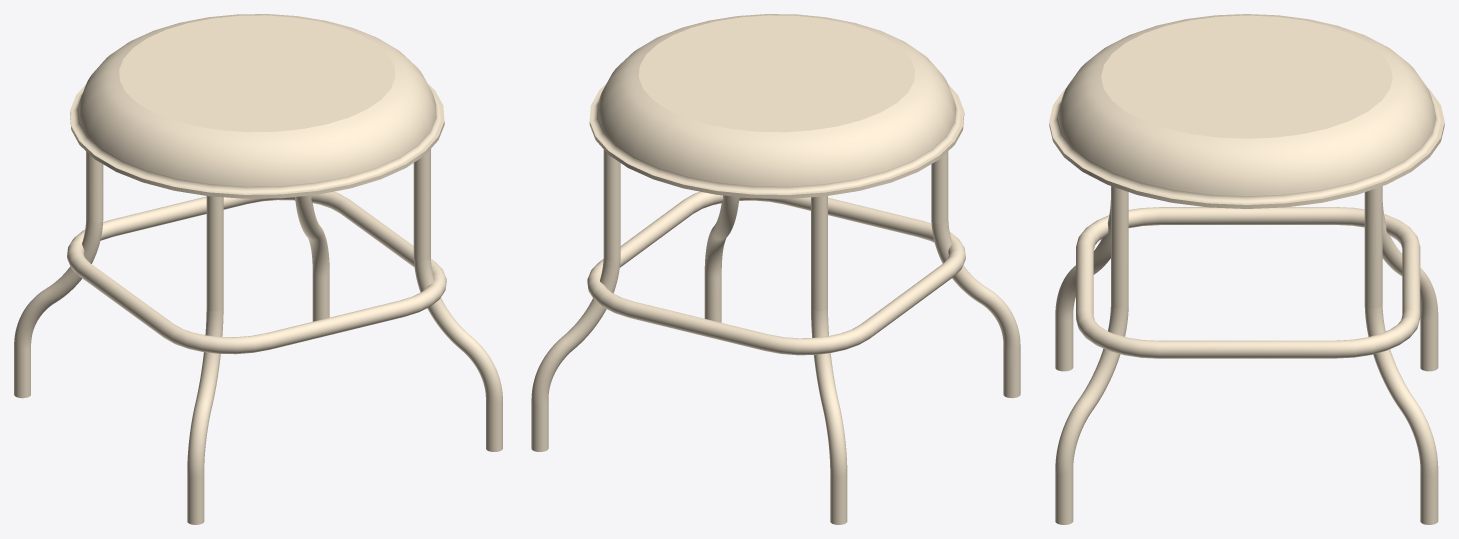
The model's file is RASKOG_Stool.obj.
The picture shows the model from 3 angles, left to right: view 1: azimuth 30°, elevation 25°; view 2: azimuth 150°, elevation 25°; view 3: azimuth 270°, elevation 25°; orthographic projection. The views are drawn at different scales.
Parts seen in each view (by area): view 1: Arc002, Rectangle002, Line004, Line003, Line002, Line001; view 2: Arc002, Rectangle002, Line002, Line001, Line004, Line003; view 3: Arc002, Rectangle002, Line001, Line003, Line002, Line004.
Boxes of the visible parts, <box> form: Arc002: <box>70,14,444,198</box>; Rectangle002: <box>67,191,446,354</box>; Line004: <box>187,196,223,524</box>; Line003: <box>413,149,502,451</box>; Line002: <box>14,151,103,398</box>; Line001: <box>295,195,329,321</box>; Arc002: <box>589,14,964,198</box>; Rectangle002: <box>587,191,965,355</box>; Line002: <box>811,196,847,524</box>; Line001: <box>531,149,620,451</box>; Line004: <box>931,151,1020,398</box>; Line003: <box>704,195,739,322</box>; Arc002: <box>1049,14,1444,208</box>; Rectangle002: <box>1076,207,1420,358</box>; Line001: <box>1364,186,1438,524</box>; Line003: <box>1055,186,1128,524</box>; Line002: <box>1382,203,1438,371</box>; Line004: <box>1055,200,1110,371</box>.
Bounding box in the file's own units: 440 × 450 × 440.
